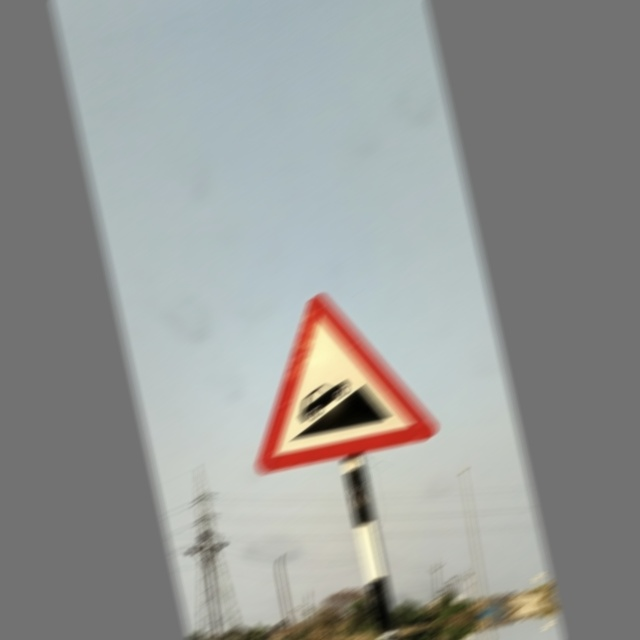Steep_Ascent: (228, 276, 439, 479)
